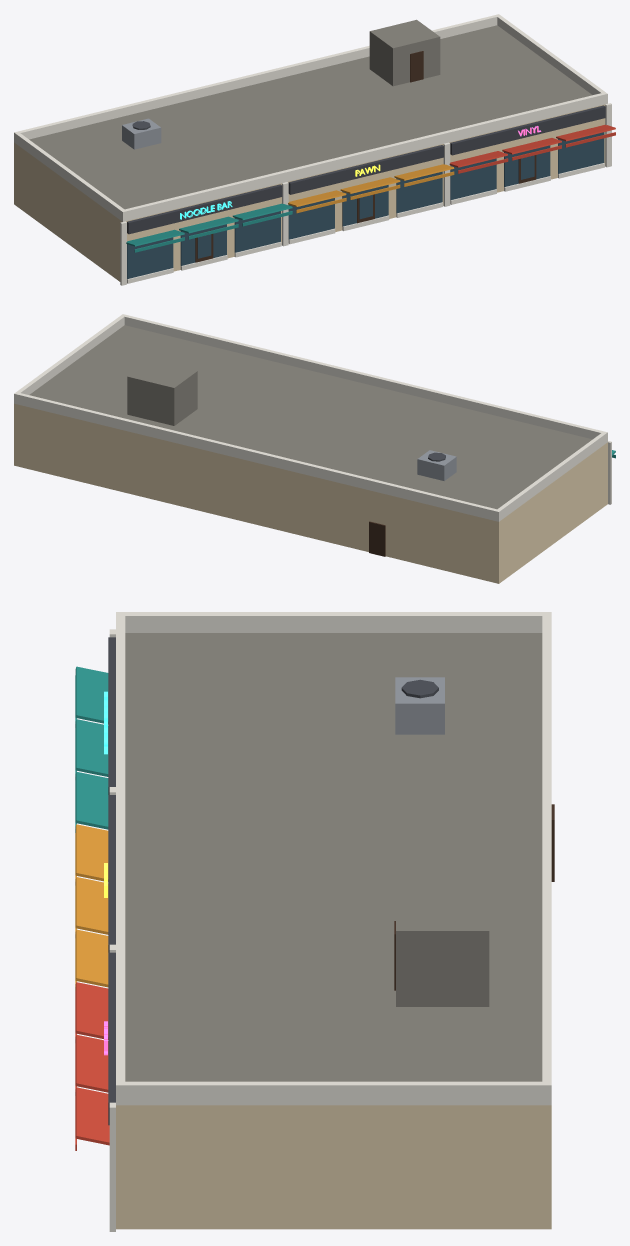
Rendered from shop_a.glb.
3 views of the same model, one above another, from view 1: azimuth 30°, elevation 25°; view 2: azimuth 150°, elevation 25°; view 3: azimuth 270°, elevation 25° (orthographic). The views are drawn at different scales.
Parts seen in each view (by area): view 1: shop_a; view 2: shop_a; view 3: shop_a.
Boxes of the visible parts, x1,y1,x2,y2 form: shop_a: (14,14,615,285); shop_a: (14,314,615,583); shop_a: (75,612,554,1231).
Size of what is drawn, in the model's own units: 36.4 by 7.2 by 15.4.
